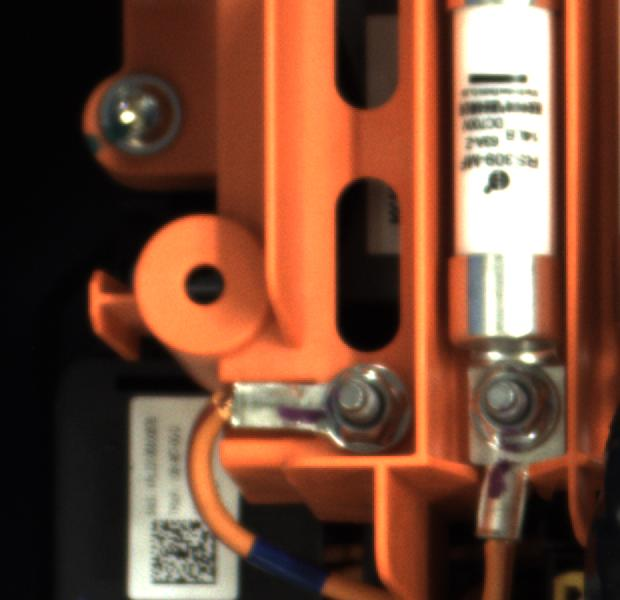screw_m: (89, 70, 196, 165)
screw_s: (464, 356, 562, 449), (316, 359, 411, 447)
